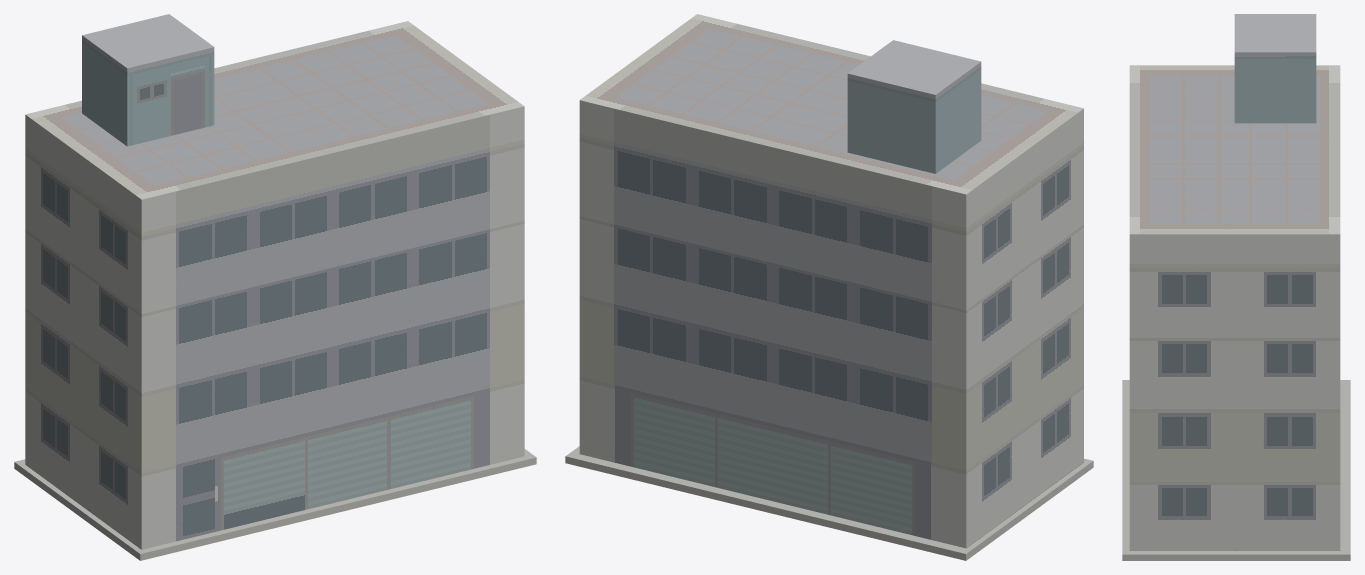
File: 026c_Marlin_Building.glb
3 views of the same model, side by side, from view 1: azimuth 30°, elevation 25°; view 2: azimuth 150°, elevation 25°; view 3: azimuth 270°, elevation 25° (orthographic). The views are drawn at different scales.
Parts seen in each view (by area): view 1: part_0; view 2: part_0; view 3: part_0.
Boxes of the visible parts, <box> form: part_0: <box>14,14,536,560</box>; part_0: <box>565,14,1093,560</box>; part_0: <box>1122,14,1350,560</box>.
Bounding box in the file's own units: 11.68 × 12.25 × 6.43.
Materials: 1 (1 with a texture image).
